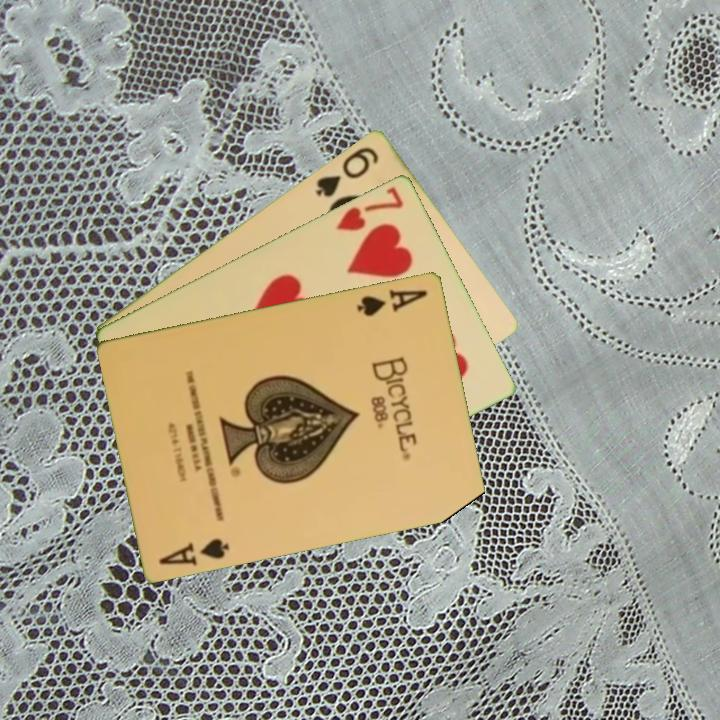6s: (312, 142, 382, 200)
7h: (332, 182, 407, 234)
As: (353, 285, 431, 319), (155, 534, 233, 567)
